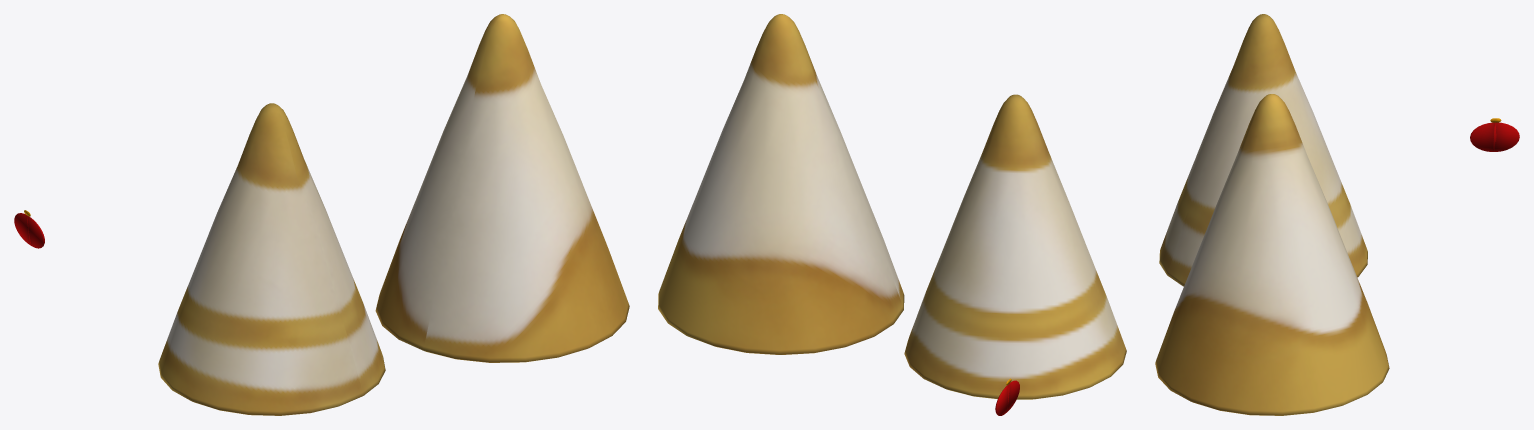
3 views of the same model, side by side, from view 1: azimuth 30°, elevation 25°; view 2: azimuth 150°, elevation 25°; view 3: azimuth 270°, elevation 25° (orthographic). The views are drawn at different scales.
Parts seen in each view (by area): view 1: V5 Christmas Collection2.17_V5 Christmas Collection2_0.001; view 2: V5 Christmas Collection2.17_V5 Christmas Collection2_0.001; view 3: V5 Christmas Collection2.17_V5 Christmas Collection2_0.001.
Boxes of the visible parts, x1=… form: V5 Christmas Collection2.17_V5 Christmas Collection2_0.001: x1=14, y1=14, x2=629, y2=415; V5 Christmas Collection2.17_V5 Christmas Collection2_0.001: x1=658, y1=14, x2=1126, y2=415; V5 Christmas Collection2.17_V5 Christmas Collection2_0.001: x1=1155, y1=14, x2=1519, y2=415.
Size of the model in its own units: 22.03 by 13.46 by 16.22.
Materials: 1 (1 with a texture image).
